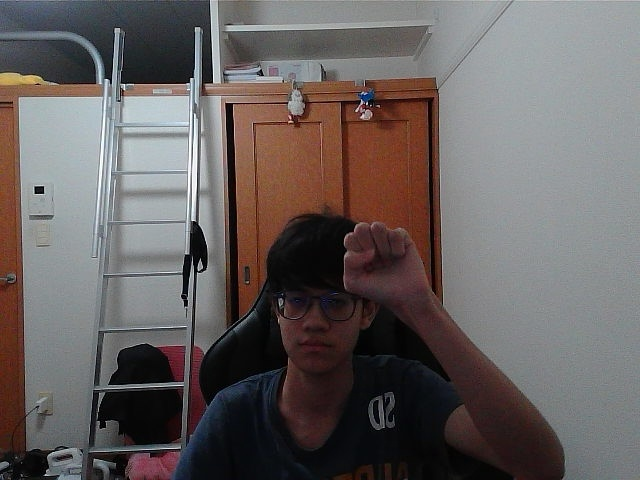closed_palm: (349, 226, 405, 293)
